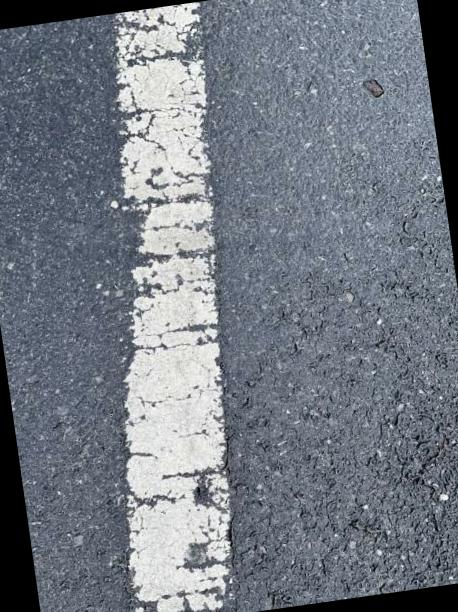faded_road_lines: (37, 0, 288, 612)
